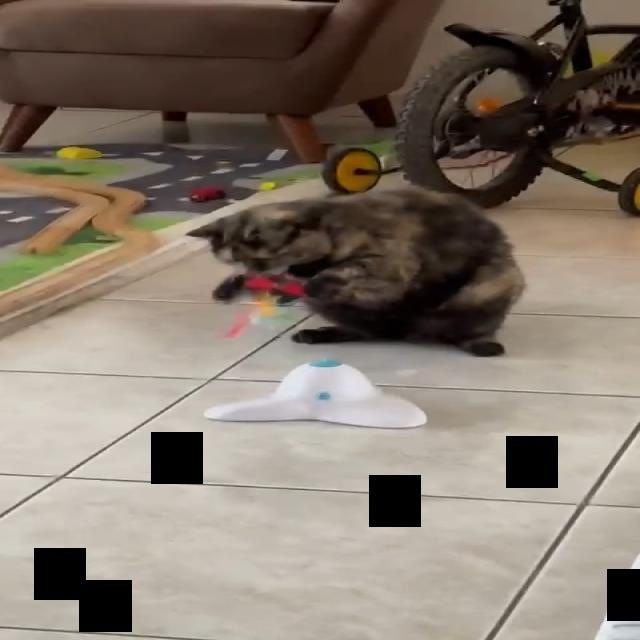authorized: (183, 186, 525, 357)
